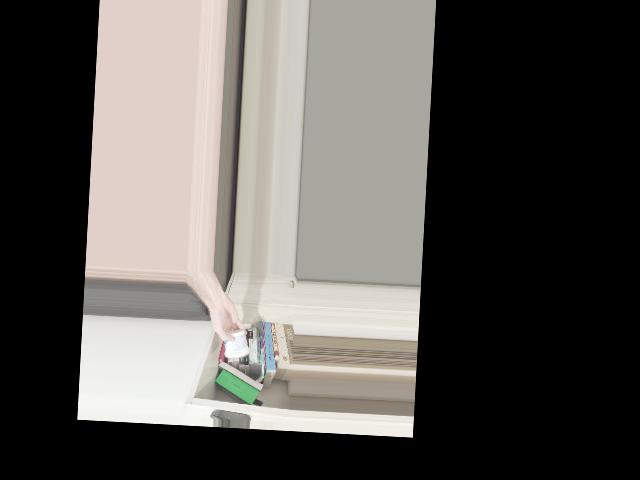cotage: (219, 321, 252, 360)
